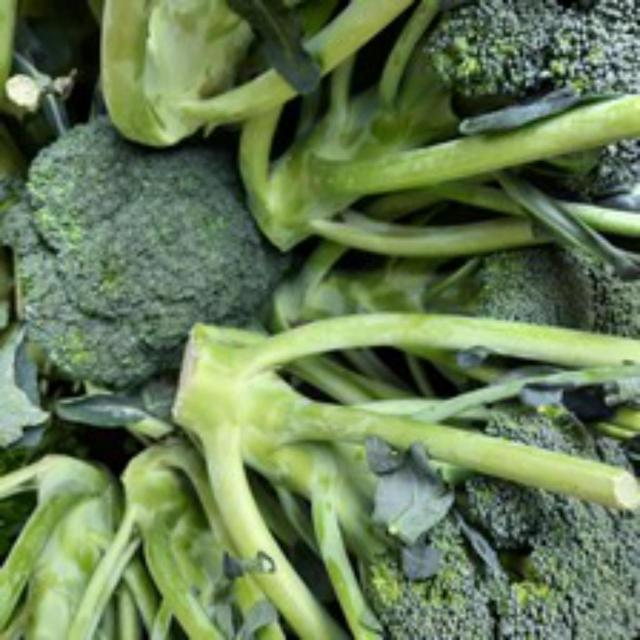broccoli: (9, 124, 289, 401)
